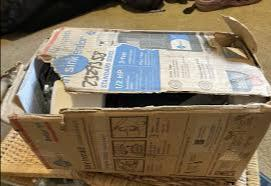damage_box: (6, 14, 270, 184)
